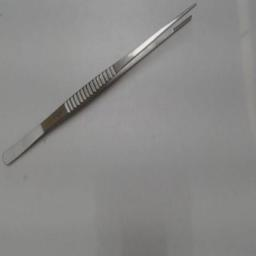DeBakey Dissector: (2, 1, 206, 183)
